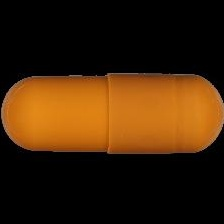63739-693: (0, 0, 224, 224)
